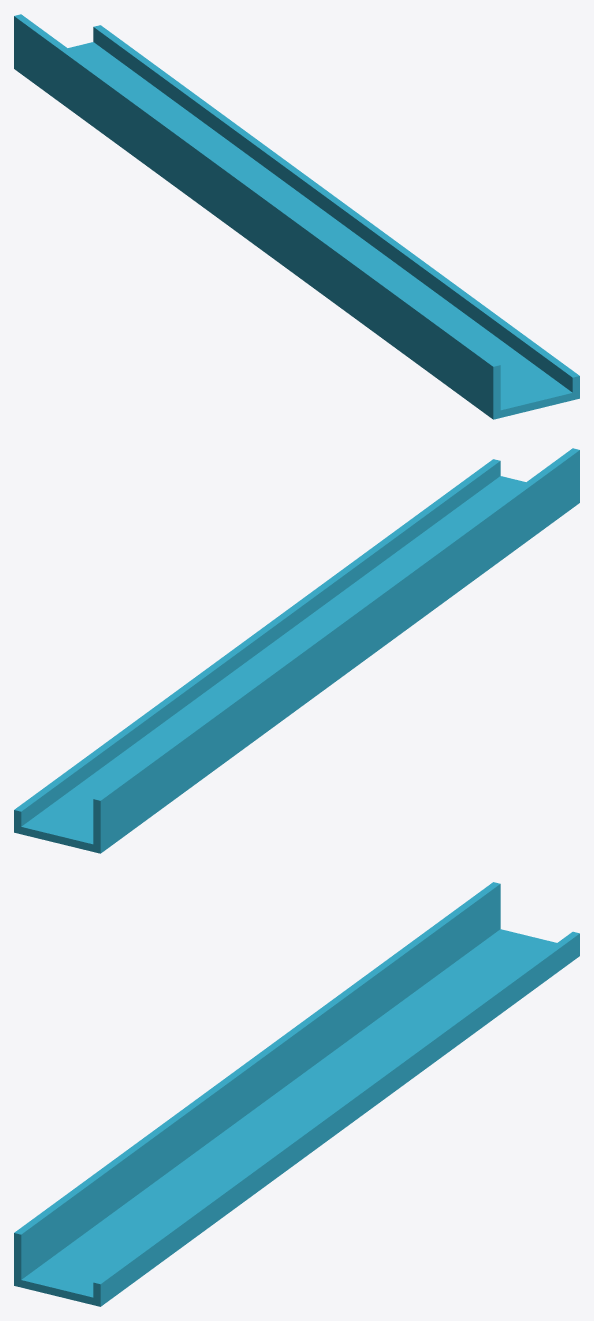
The model's file is mensola.glb.
The picture shows the model from 3 angles, top to bottom: view 1: azimuth 30°, elevation 25°; view 2: azimuth 150°, elevation 25°; view 3: azimuth 330°, elevation 25°; orthographic projection.
Parts seen in each view (by area): view 1: mensola; view 2: mensola; view 3: mensola.
Boxes of the visible parts, left/top/right/bottom form: mensola: left=14, top=14, right=579, bottom=419; mensola: left=14, top=448, right=579, bottom=853; mensola: left=14, top=882, right=579, bottom=1306.
Bounding box in the file's own units: 0.012 × 0.007 × 0.115.
